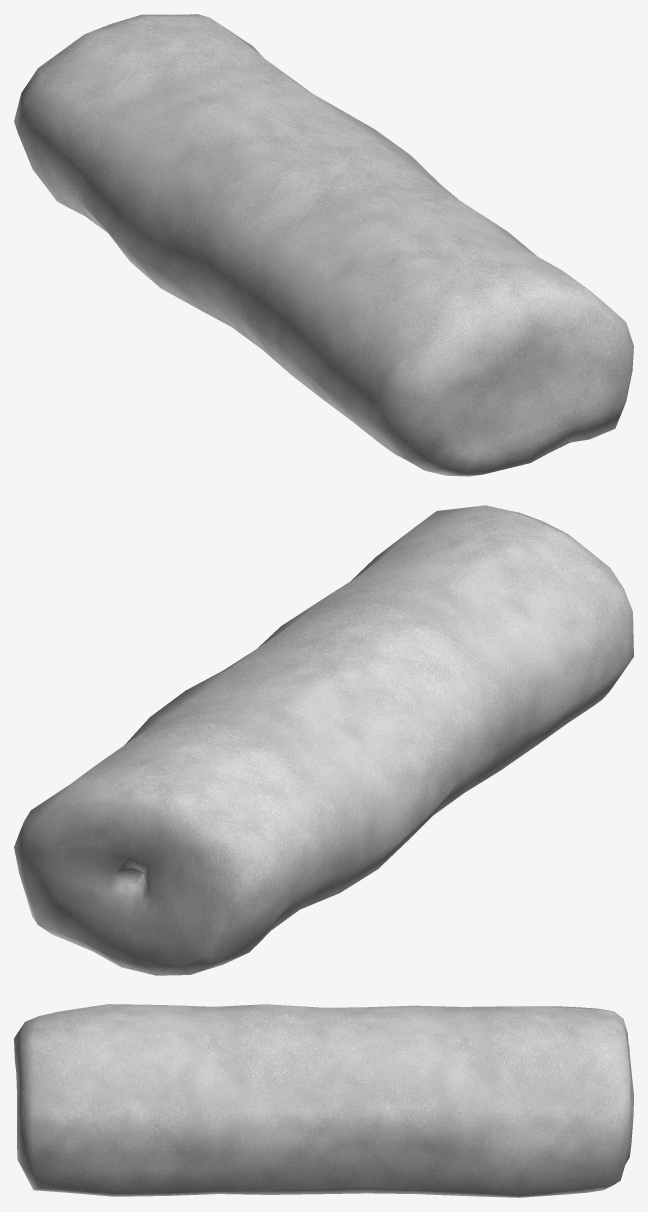
File: SM_TowelRoll_01.fbx
3 renders of one model, top to bottom at view 1: azimuth 30°, elevation 25°; view 2: azimuth 150°, elevation 25°; view 3: azimuth 270°, elevation 25°, orthographic. The views are drawn at different scales.
Visible parts, largest first — view 1: SM_TowelRoll_01_LOD0; view 2: SM_TowelRoll_01_LOD0; view 3: SM_TowelRoll_01_LOD0.
Part boxes in pixels (box(x1,y1,x2,y2)): SM_TowelRoll_01_LOD0: box(14, 14, 633, 476); SM_TowelRoll_01_LOD0: box(14, 505, 633, 975); SM_TowelRoll_01_LOD0: box(14, 1004, 633, 1197).
Bounding box in the file's own units: 14.33 × 38.72 × 10.16.
1 material, 1 textured.
